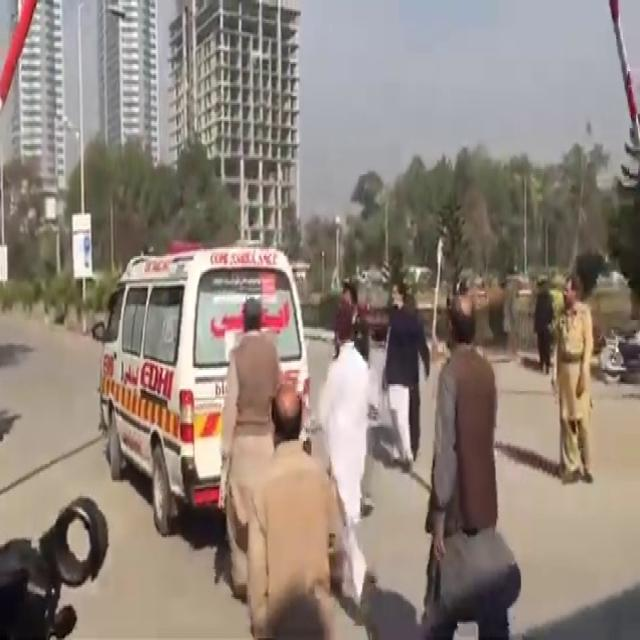ambulance: (93, 224, 312, 480)
